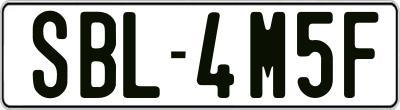4: (195, 9, 232, 98)
5: (297, 12, 333, 102)
B: (80, 12, 120, 100)
F: (341, 10, 381, 102)
L: (120, 12, 158, 103)
M: (249, 9, 286, 101)
S: (31, 11, 70, 100)
